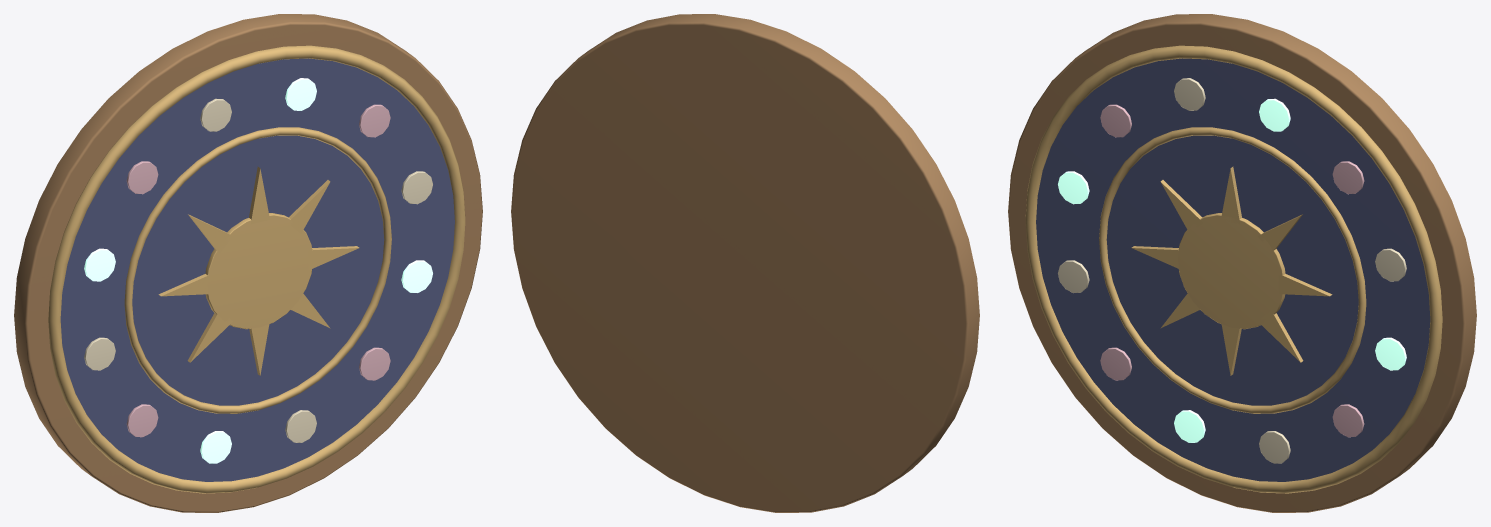
Rendered from Zodiac_Wheel.fbx.
3 views of the same model, side by side, from view 1: azimuth 30°, elevation 25°; view 2: azimuth 150°, elevation 25°; view 3: azimuth 330°, elevation 25° (orthographic).
Parts seen in each view (by area): view 1: Zodiac_Wheel_Mesh; view 2: Zodiac_Wheel_Mesh; view 3: Zodiac_Wheel_Mesh.
Boxes of the visible parts, <box> form: Zodiac_Wheel_Mesh: <box>14,14,482,512</box>; Zodiac_Wheel_Mesh: <box>511,14,979,512</box>; Zodiac_Wheel_Mesh: <box>1008,14,1476,512</box>.
Size of the model in its own units: 0.6 by 0.6 by 0.042.
